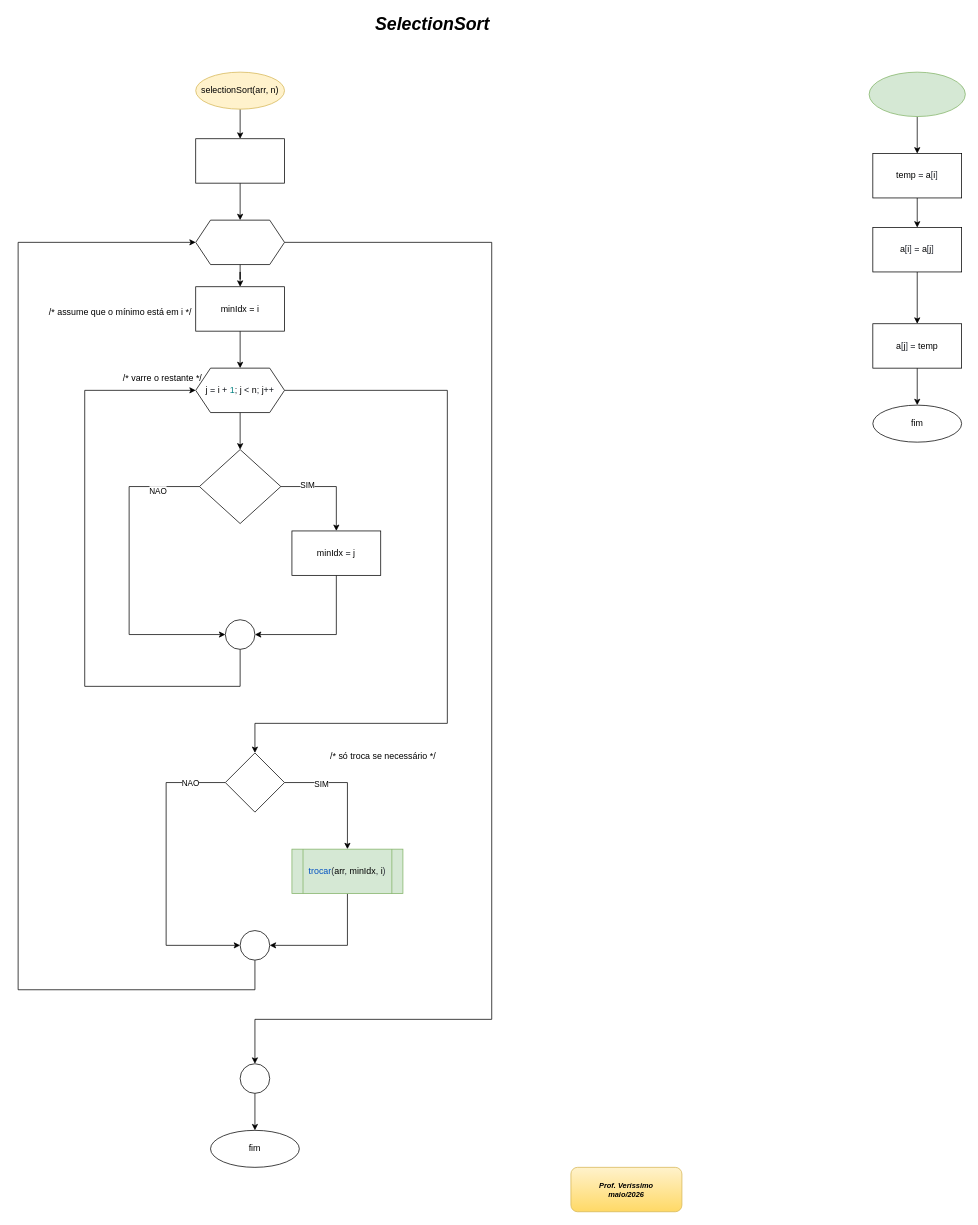
This 978x1225 diagram has some shape labels left out. The shapes that lost their labels are listed below. From the top down, each one's centre as x and y in pixels, then its label:
At point 916,94: "trocar ( a[ ] , i, i )".
At point 240,160: "declarar: i, j, minIdx".
At point 240,242: "i=0; i < n; j++".
At point 240,486: "arr [ j ] < arr [ minIdx ]".
At point 255,782: "minIdx != i".
